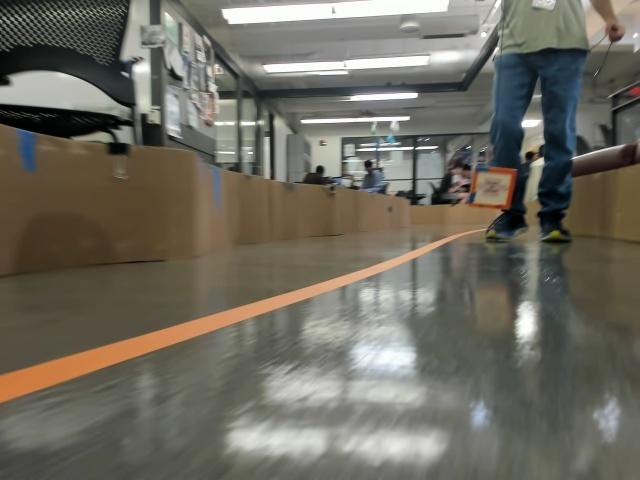Do Not Go Around: (479, 175, 508, 195)
